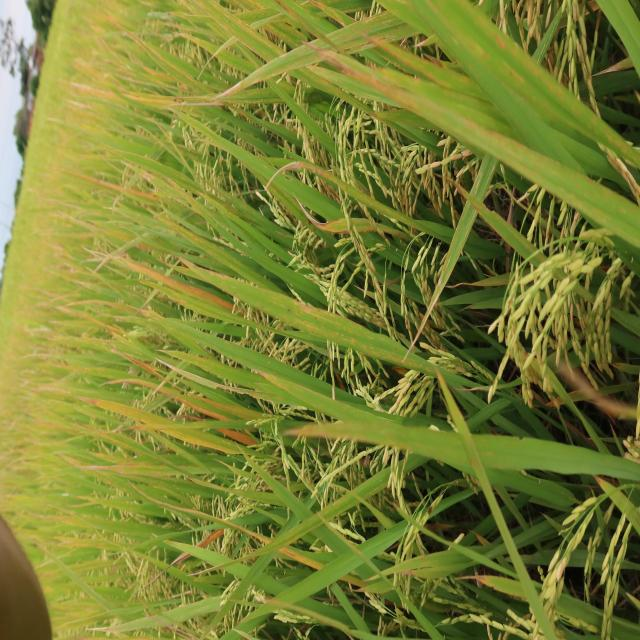Dom soc vi khuan: (291, 299, 353, 346), (349, 336, 405, 365), (267, 187, 305, 219), (224, 253, 253, 281), (403, 358, 435, 373)
